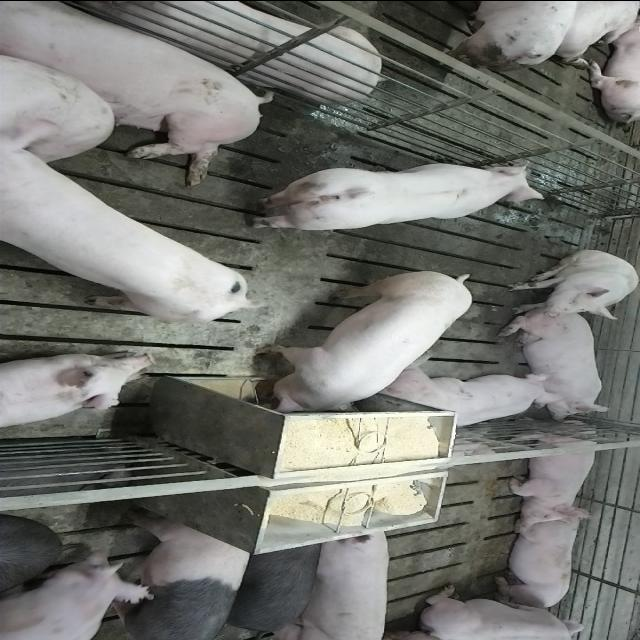Feeding: (250, 273, 474, 421)
Lateral_lying: (4, 3, 278, 188), (31, 0, 383, 103)
Sitting: (503, 249, 638, 319)
Standing: (0, 134, 257, 326), (240, 154, 548, 230), (82, 514, 256, 638), (0, 550, 161, 640), (295, 522, 390, 638), (220, 535, 326, 638)
Sternal_lying: (0, 352, 157, 432), (506, 313, 614, 424), (377, 366, 559, 431), (405, 584, 598, 638), (503, 426, 602, 526), (492, 512, 588, 610)
